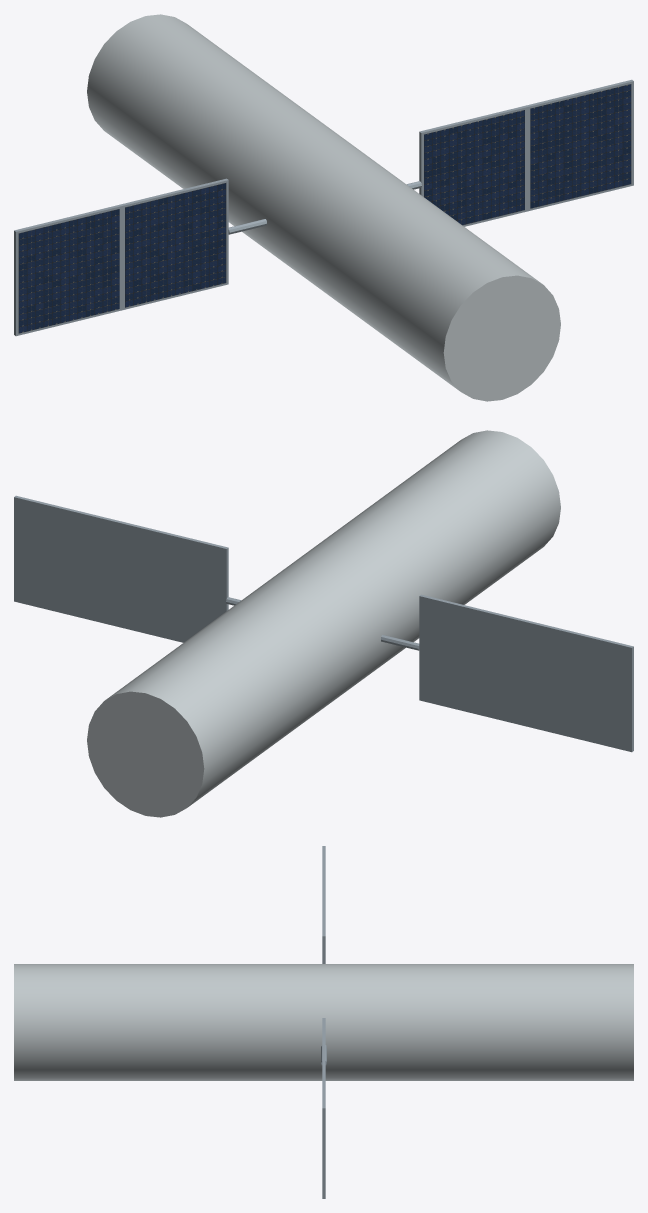
Rendered from ref-kh-9-5297.glb.
3 renders of one model, top to bottom at view 1: azimuth 30°, elevation 25°; view 2: azimuth 150°, elevation 25°; view 3: azimuth 270°, elevation 25°, orthographic. The views are drawn at different scales.
Parts seen in each view (by area): view 1: Spacecraft body, Photovoltaic laminates (×4), Array frame (×4); view 2: Spacecraft body, Array frame (×4); view 3: Spacecraft body, Array frame.
Boxes of the visible parts, left/top/right/bottom form: Spacecraft body: left=87, top=14, right=560, bottom=401; Photovoltaic laminates (×4): left=18, top=84, right=631, bottom=333; Array frame (×4): left=14, top=79, right=633, bottom=336; Spacecraft body: left=87, top=430, right=560, bottom=817; Array frame (×4): left=14, top=495, right=633, bottom=752; Spacecraft body: left=14, top=964, right=633, bottom=1080; Array frame: left=322, top=1063, right=325, bottom=1198.
Bounding box in the file's own units: 15.8 × 3 × 15.8.
Materials: 3 (1 with a texture image).
